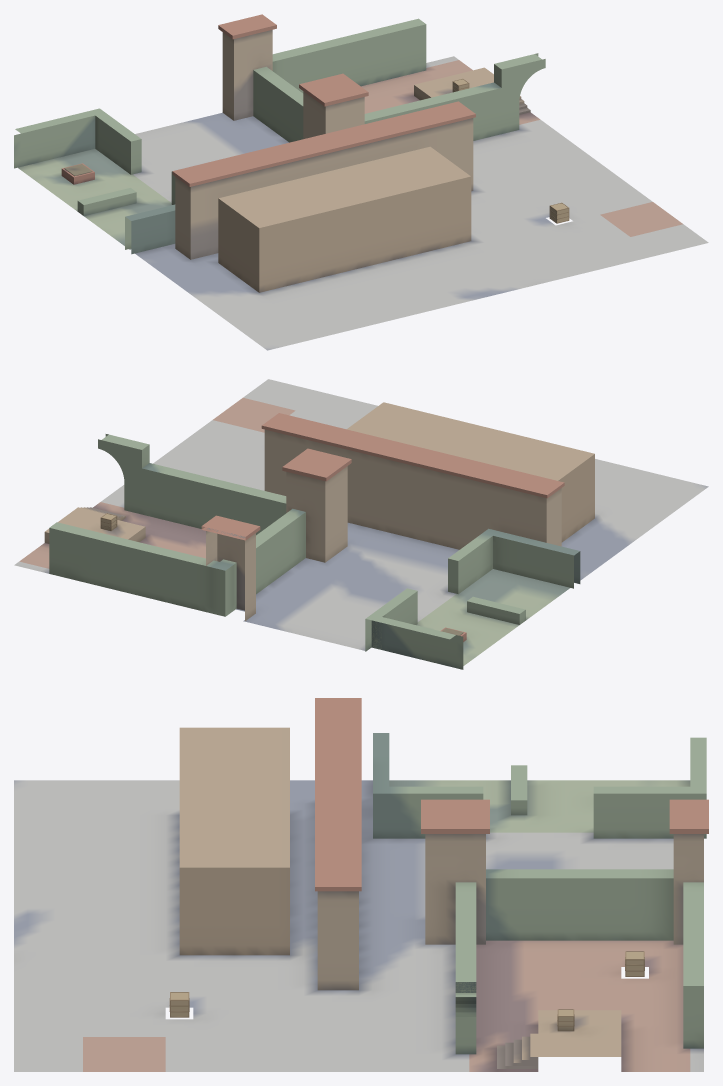
3 renders of one model, top to bottom at view 1: azimuth 30°, elevation 25°; view 2: azimuth 150°, elevation 25°; view 3: azimuth 270°, elevation 25°, orthographic. The views are drawn at different scales.
Visible parts, largest first — view 1: t; view 2: t; view 3: t.
Part boxes in pixels (left/top/right/bottom): t: left=14, top=14, right=708, bottom=350; t: left=14, top=379, right=708, bottom=669; t: left=14, top=698, right=708, bottom=1071.
Size of the model in its own units: 50.4 by 9.4 by 50.36.
